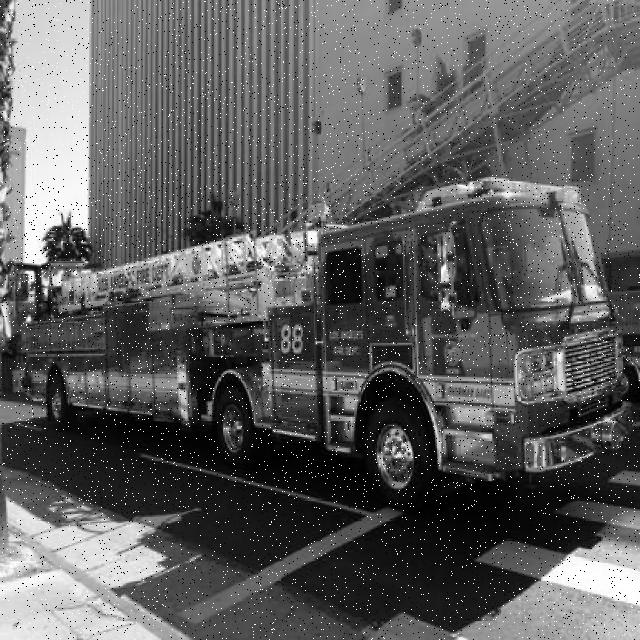Fire Truck: (10, 178, 630, 512)
